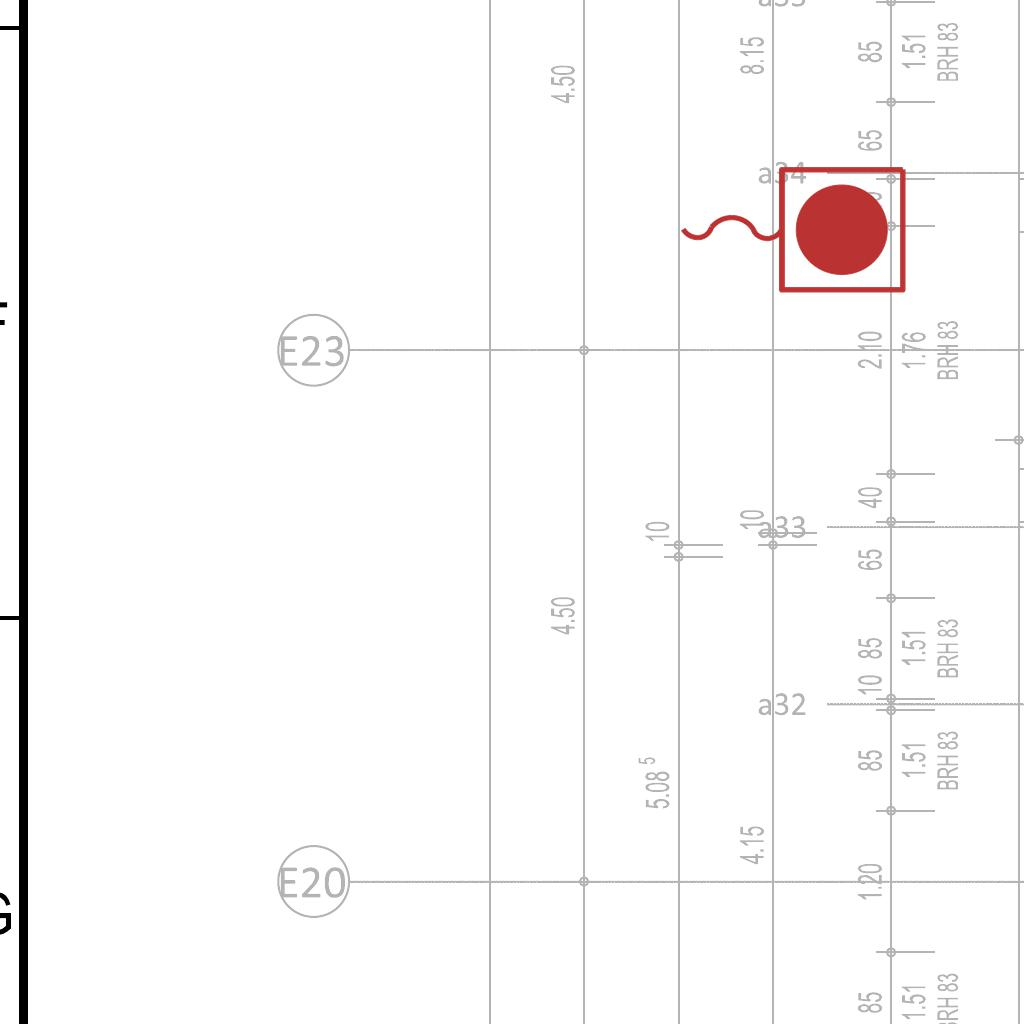Zugtaster: (670, 156, 914, 300)
